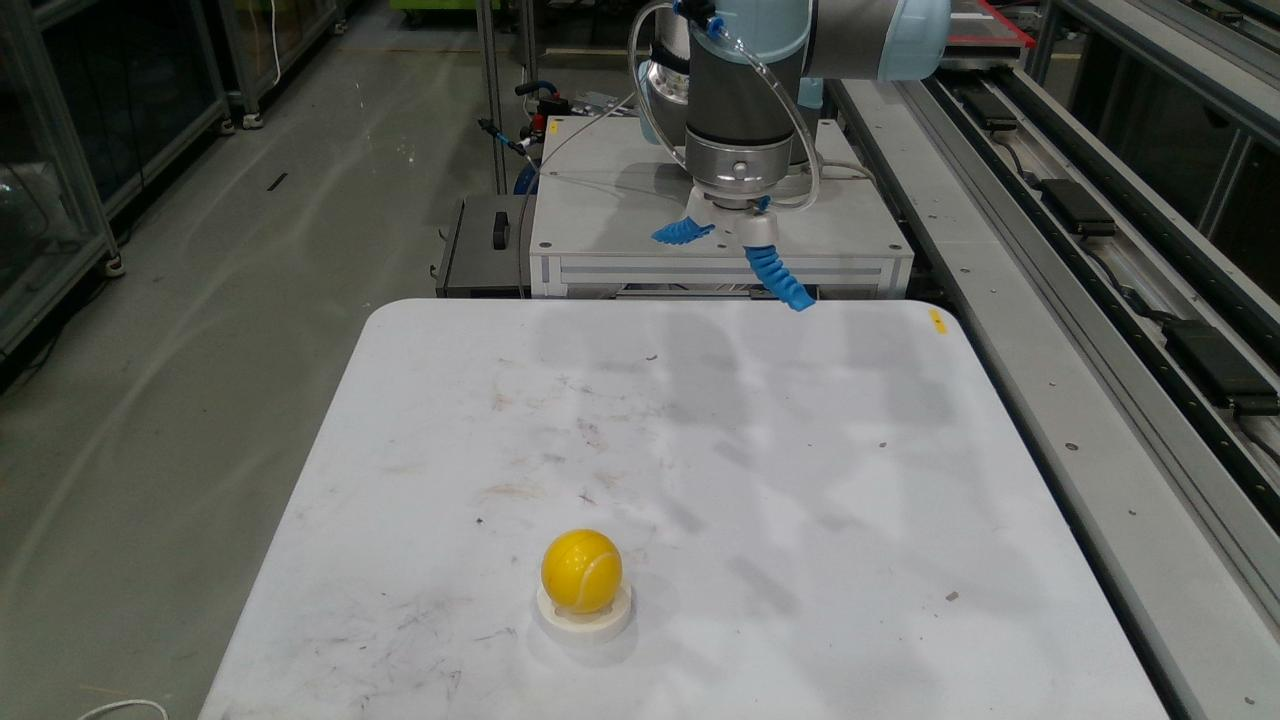UR5: (634, 0, 944, 245), (770, 134, 810, 208), (796, 80, 822, 140)
gripper_left: (652, 216, 715, 244)
gripper_right: (750, 245, 810, 309)
target: (537, 580, 632, 648), (544, 530, 618, 611), (569, 652, 622, 664)
